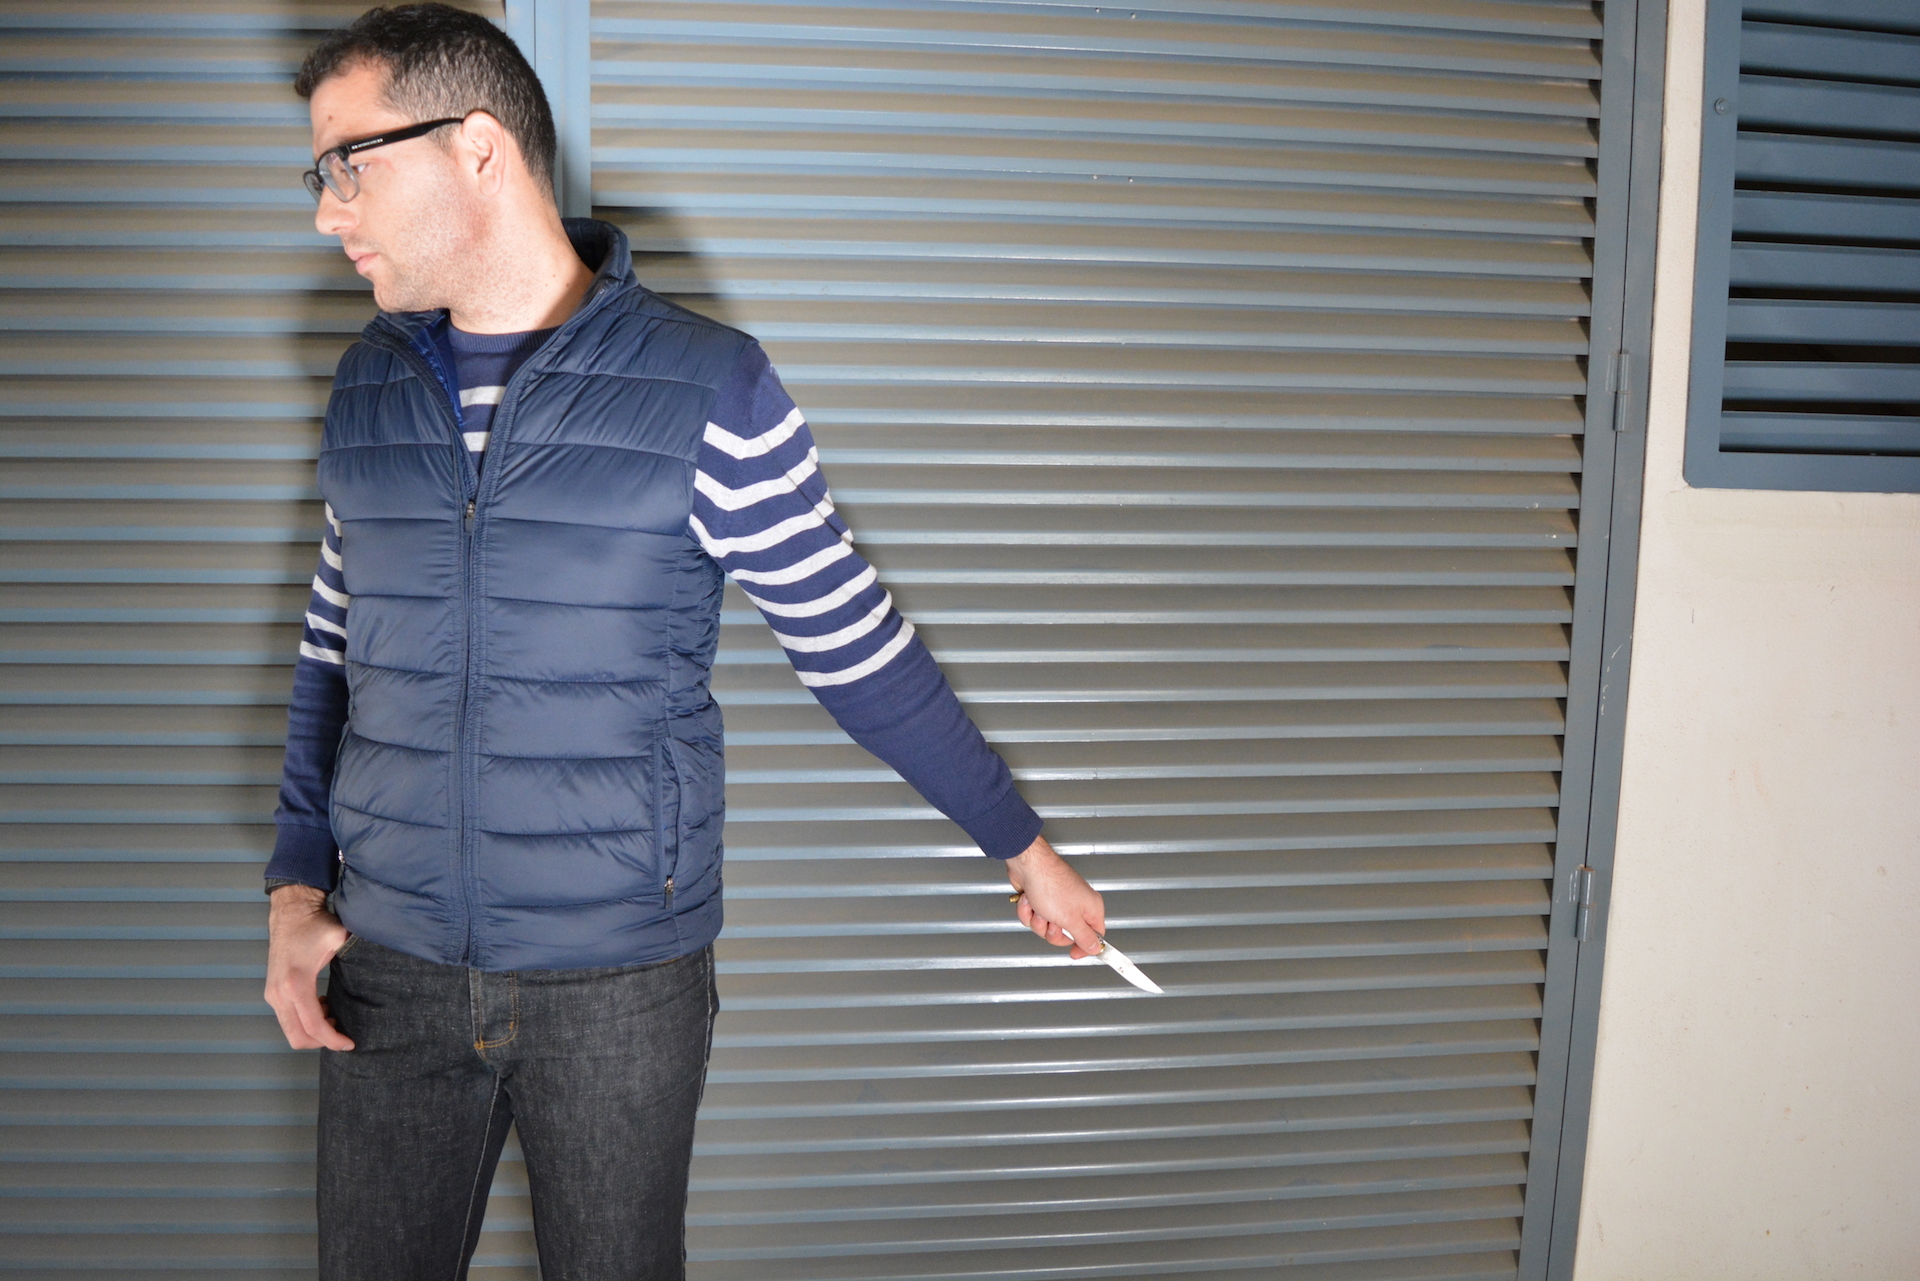knife: (1004, 889, 1175, 1004)
